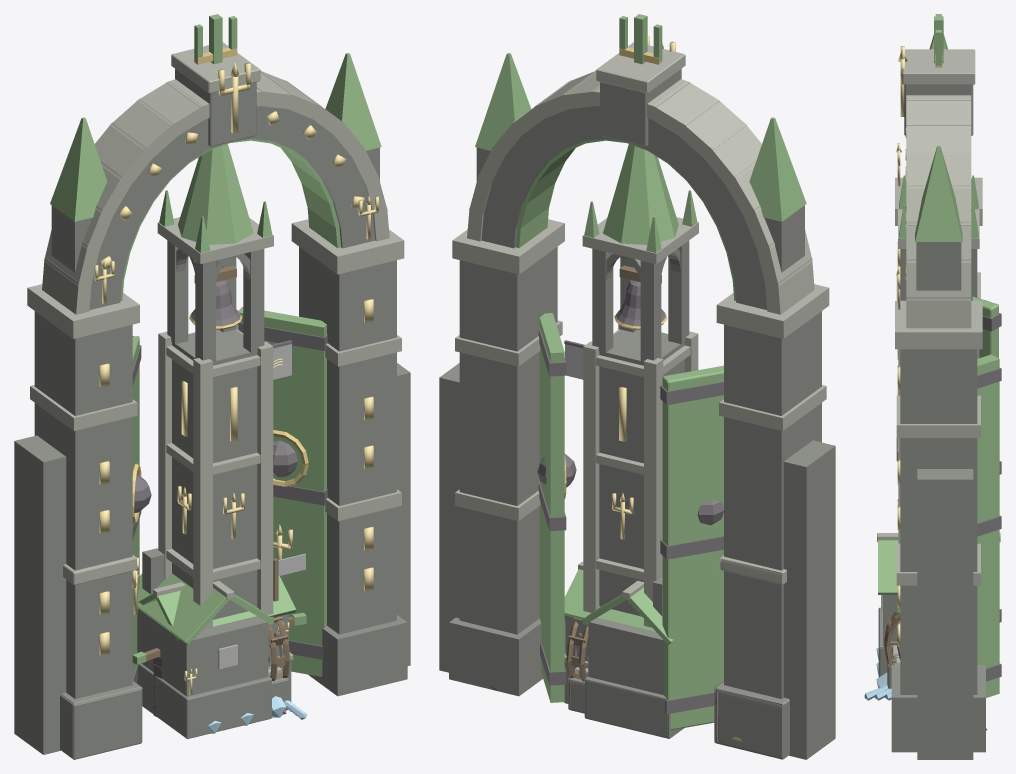
File: SunkenF38Kit.fbx
3 views of the same model, side by side, from view 1: azimuth 30°, elevation 25°; view 2: azimuth 150°, elevation 25°; view 3: azimuth 270°, elevation 25° (orthographic). The views are drawn at different scales.
Visible parts, largest first — view 1: SeaGateArch__STONE, SeaGateArch__TRIM, SeaGateArch__ACCENT, TidebellTowerSlim__STONE, TidebellTowerSlim__TRIM, TideMillHouse__STONE, TidebellTowerSlim__ACCENT, SeaGateArch__GLOW, SeaGateArch__METAL, TideMillHouse__ACCENT, TidebellTowerSlim__GLOW, SluiceHouseKeep__ACCENT (+3 smaller); view 2: SeaGateArch__STONE, SeaGateArch__ACCENT, SeaGateArch__TRIM, TidebellTowerSlim__STONE, TidebellTowerSlim__TRIM, TideMillHouse__STONE, TidebellTowerSlim__ACCENT, SeaGateArch__METAL, SluiceHouseKeep__ACCENT, TideMillHouse__ACCENT, TidebellTowerSlim__METAL, TideMillHouse__WOOD (+1 smaller); view 3: SeaGateArch__STONE, SeaGateArch__TRIM, SeaGateArch__ACCENT, SeaGateArch__GLOW, SeaGateArch__METAL, TideMillHouse__ACCENT, TideMillHouse__STONE, TidebellTowerSlim__ACCENT, TidebellTowerSlim__TRIM, TideMillHouse__WOOD, TidebellTowerSlim__STONE, TideMillHouse__CRYSTAL.
Boxes of the visible parts, x1,y1,x2,y2 form: SeaGateArch__STONE: (14, 69, 410, 759); SeaGateArch__TRIM: (27, 42, 404, 584); SeaGateArch__ACCENT: (50, 14, 381, 682); TidebellTowerSlim__STONE: (167, 240, 288, 709); TidebellTowerSlim__TRIM: (157, 217, 281, 676); TideMillHouse__STONE: (137, 548, 271, 738); TidebellTowerSlim__ACCENT: (159, 144, 272, 252); SeaGateArch__GLOW: (94, 62, 378, 655); SeaGateArch__METAL: (132, 322, 327, 682); TideMillHouse__ACCENT: (137, 573, 274, 644); TidebellTowerSlim__GLOW: (177, 358, 282, 539); SluiceHouseKeep__ACCENT: (139, 576, 296, 640); SeaGateArch__STONE: (439, 69, 835, 759); SeaGateArch__ACCENT: (475, 14, 806, 730); SeaGateArch__TRIM: (452, 42, 829, 584); TidebellTowerSlim__STONE: (568, 240, 689, 713); TidebellTowerSlim__TRIM: (575, 217, 698, 676); TideMillHouse__STONE: (584, 577, 683, 738); TidebellTowerSlim__ACCENT: (584, 144, 697, 252); SeaGateArch__METAL: (537, 327, 723, 714); SluiceHouseKeep__ACCENT: (564, 569, 655, 631); TideMillHouse__ACCENT: (582, 587, 673, 644); TidebellTowerSlim__METAL: (564, 280, 665, 348); TideMillHouse__WOOD: (566, 618, 588, 681); SeaGateArch__STONE: (891, 84, 985, 759); SeaGateArch__TRIM: (895, 49, 982, 585); SeaGateArch__ACCENT: (915, 14, 999, 697); SeaGateArch__GLOW: (896, 46, 907, 646); SeaGateArch__METAL: (977, 313, 1001, 681); TideMillHouse__ACCENT: (878, 540, 898, 594); TideMillHouse__STONE: (878, 595, 897, 677); TidebellTowerSlim__ACCENT: (899, 175, 978, 238); TidebellTowerSlim__TRIM: (892, 204, 979, 662); TideMillHouse__WOOD: (884, 609, 900, 666); TidebellTowerSlim__STONE: (887, 249, 972, 688); TideMillHouse__CRYSTAL: (864, 684, 891, 700).
Size of the model in its own units: 94.5 by 170 by 31.91.
